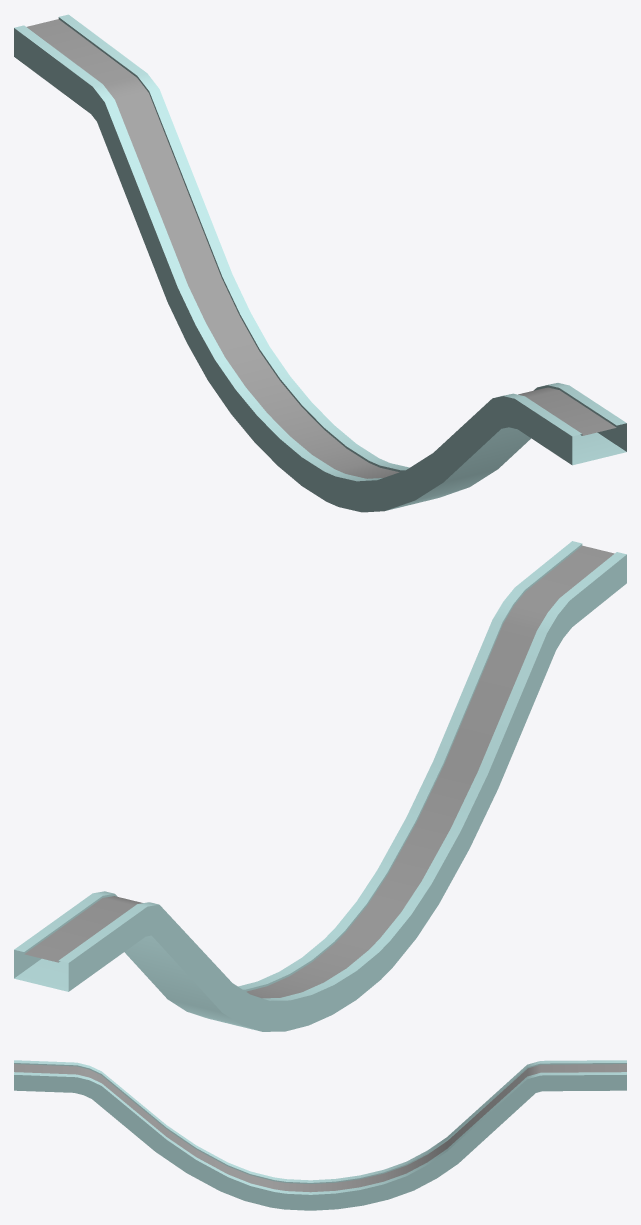
The model's file is hollow.fbx.
3 renders of one model, top to bottom at view 1: azimuth 30°, elevation 25°; view 2: azimuth 150°, elevation 25°; view 3: azimuth 270°, elevation 25°, orthographic. The views are drawn at different scales.
Visible parts, largest first — view 1: hollow; view 2: hollow; view 3: hollow.
Boxes of the visible parts, x1,y1,x2,y2 form: hollow: (14, 14, 626, 512); hollow: (14, 541, 626, 1031); hollow: (14, 1060, 626, 1210).
Size of the model in its own units: 204 by 880 by 3594.
